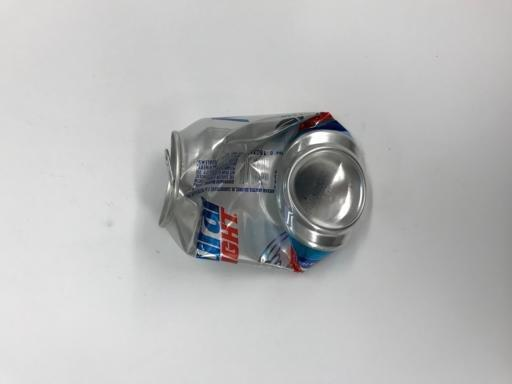kaleng: (158, 112, 368, 276)
